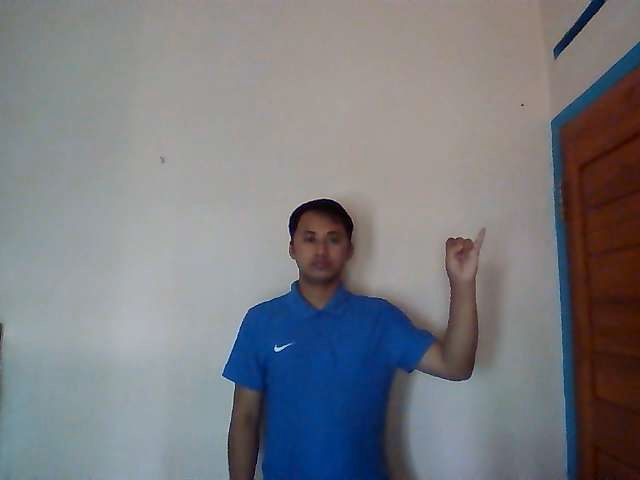I: (443, 227, 487, 280)
